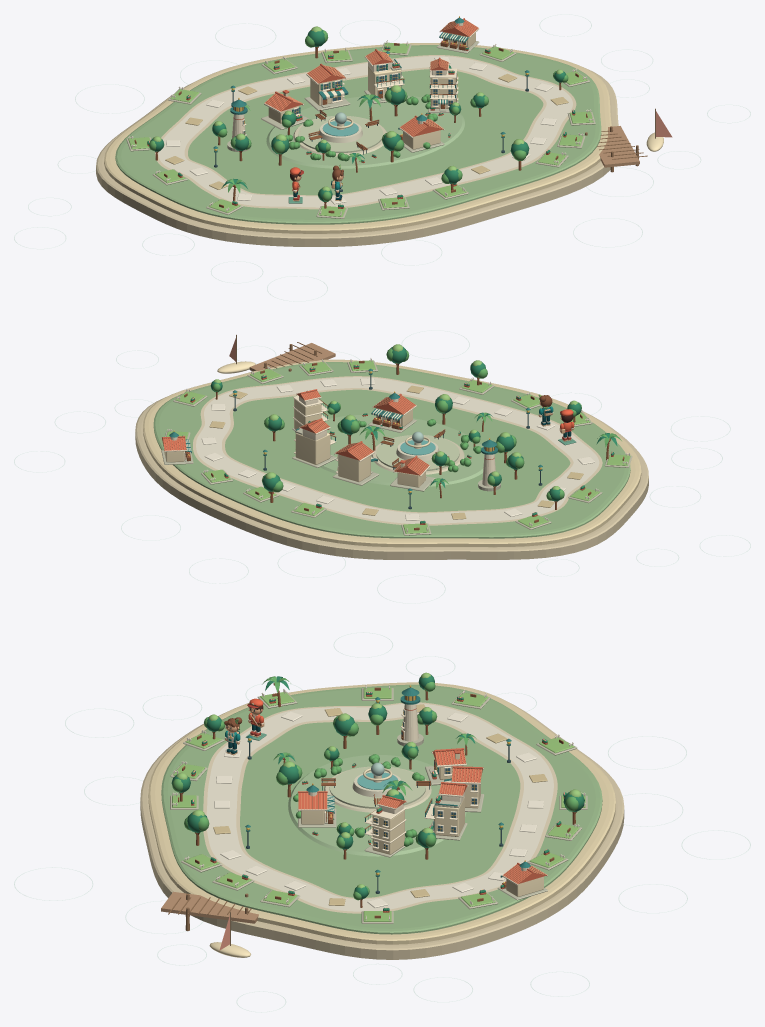
Rendered from shanhai-integrated-scene.glb.
The picture shows the model from 3 angles, top to bottom: view 1: azimuth 30°, elevation 25°; view 2: azimuth 150°, elevation 25°; view 3: azimuth 270°, elevation 25°; orthographic projection. The views are drawn at different scales.
Parts seen in each view (by area): view 1: object 21, object 51, object 19, object 20, object 22, object 5, object 50, object 69, object 65, object 59, object 4, object 56 (+12 smaller); view 2: object 21, object 51, object 19, object 20, object 50, object 22, object 5, object 56, object 65, object 69, object 4, object 57 (+11 smaller); view 3: object 21, object 51, object 20, object 19, object 22, object 50, object 5, object 69, object 65, object 59, object 56, object 4 (+11 smaller).
Part boxes in pixels (x1,y1,x2,y2): object 21: [115, 45, 601, 224]; object 51: [158, 56, 572, 207]; object 19: [96, 67, 618, 246]; object 20: [104, 43, 611, 233]; object 22: [266, 95, 464, 168]; object 5: [128, 42, 593, 216]; object 50: [155, 55, 576, 209]; object 69: [149, 29, 568, 201]; object 65: [150, 30, 565, 201]; object 59: [232, 54, 458, 138]; object 4: [126, 41, 595, 218]; object 56: [268, 66, 455, 149]; object 21: [153, 362, 630, 538]; object 51: [196, 377, 599, 523]; object 19: [135, 397, 648, 559]; object 20: [143, 359, 641, 547]; object 50: [193, 376, 602, 525]; object 22: [320, 414, 484, 486]; object 5: [166, 360, 630, 533]; object 56: [294, 399, 425, 487]; object 65: [210, 345, 617, 501]; object 69: [213, 348, 621, 500]; object 4: [161, 360, 632, 535]; object 57: [297, 389, 494, 475]; object 21: [161, 684, 602, 934]; object 51: [206, 703, 553, 911]; object 20: [148, 682, 615, 944]; object 19: [140, 703, 624, 959]; object 22: [288, 755, 466, 856]; object 50: [203, 702, 557, 913]; object 5: [172, 688, 585, 921]; object 69: [172, 676, 578, 900]; object 65: [171, 674, 584, 899]; object 59: [297, 704, 483, 851]; object 56: [301, 754, 480, 854]; object 4: [170, 688, 587, 923].
Size of what is drawn, in the model's own units: 54.92 by 5.54 by 45.01.
